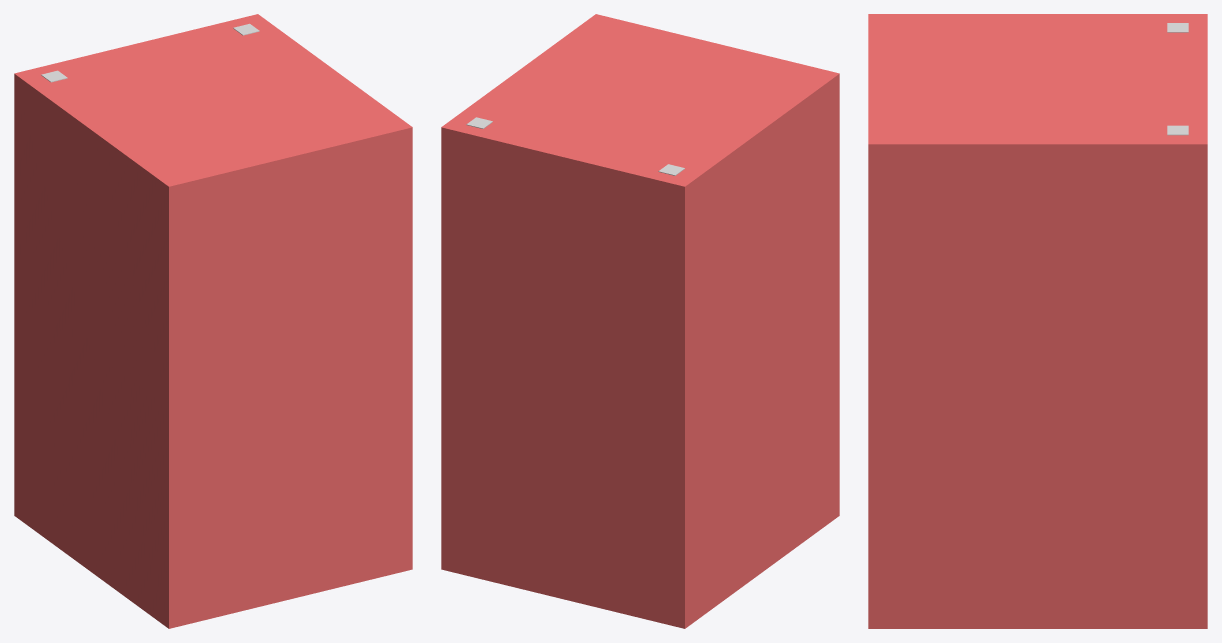
The model's file is prop_chair_01.glb.
The picture shows the model from 3 angles, left to right: view 1: azimuth 30°, elevation 25°; view 2: azimuth 150°, elevation 25°; view 3: azimuth 270°, elevation 25°; orthographic projection. The views are drawn at different scales.
Parts seen in each view (by area): view 1: brush_box; view 2: brush_box; view 3: brush_box.
Part boxes in pixels (x1,y1,x2,y2): brush_box: [14, 14, 412, 628]; brush_box: [441, 14, 839, 628]; brush_box: [868, 14, 1207, 628].
Bounding box in the file's own units: 0.5906 × 1.02 × 0.6494.
